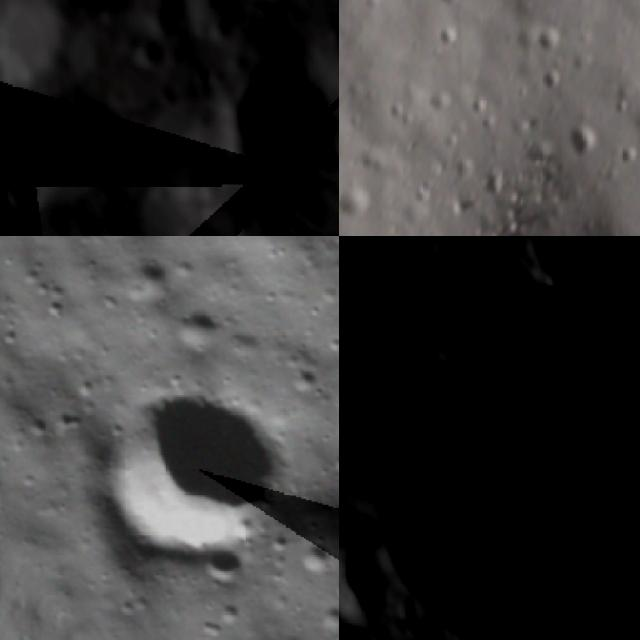crater: (339, 341, 640, 640), (70, 360, 306, 590), (213, 49, 339, 213), (494, 236, 611, 307), (339, 323, 421, 420), (413, 300, 479, 367), (114, 250, 182, 312), (339, 549, 388, 635), (171, 294, 234, 354), (191, 537, 254, 597), (458, 316, 518, 379), (339, 480, 380, 558), (0, 159, 37, 218), (389, 404, 437, 445), (292, 535, 336, 578), (356, 236, 424, 260), (133, 29, 171, 71), (616, 236, 640, 291), (339, 183, 374, 220), (531, 21, 568, 52), (566, 126, 599, 160), (201, 0, 244, 24), (339, 279, 355, 332), (469, 96, 497, 120), (427, 88, 453, 113), (540, 68, 568, 90), (608, 90, 628, 117), (436, 24, 464, 42), (615, 143, 640, 163), (432, 0, 466, 10)
